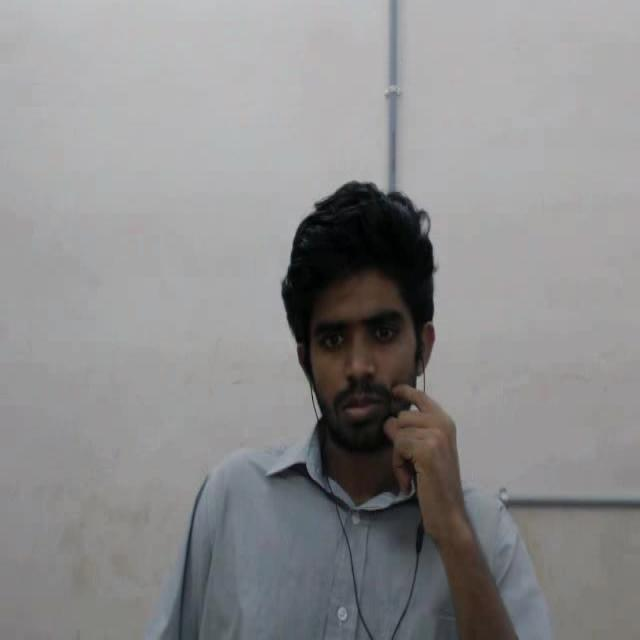Bored: (257, 155, 453, 500)
